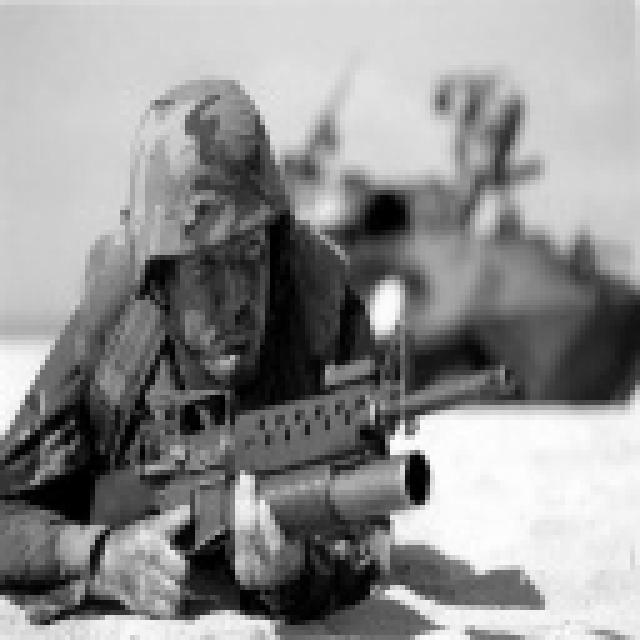Rifle: (0, 305, 525, 565)
